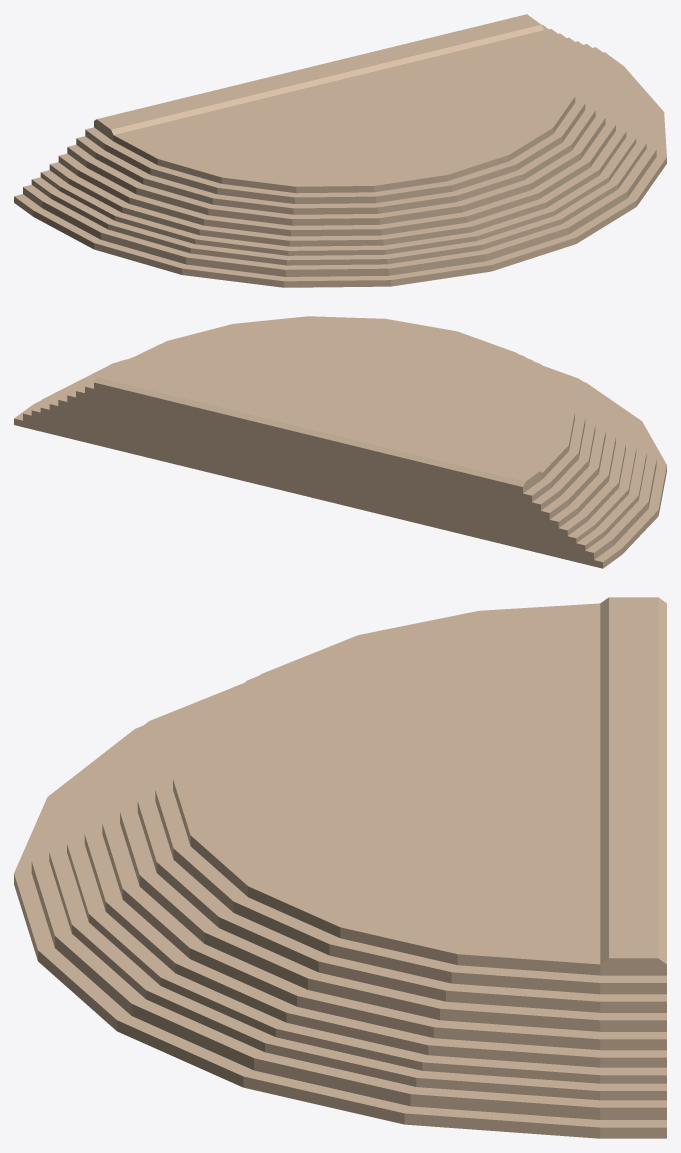
File: BC_ArchStair_A.fbx
3 views of the same model, one above another, from view 1: azimuth 30°, elevation 25°; view 2: azimuth 150°, elevation 25°; view 3: azimuth 270°, elevation 25° (orthographic). The views are drawn at different scales.
Visible parts, largest first — view 1: BC_ArchStair_A; view 2: BC_ArchStair_A; view 3: BC_ArchStair_A.
Boxes of the visible parts, <box> form: BC_ArchStair_A: <box>14,14,666,287</box>; BC_ArchStair_A: <box>14,316,666,568</box>; BC_ArchStair_A: <box>14,597,666,1138</box>.
Bounding box in the file's own units: 2014 × 214 × 1122.
